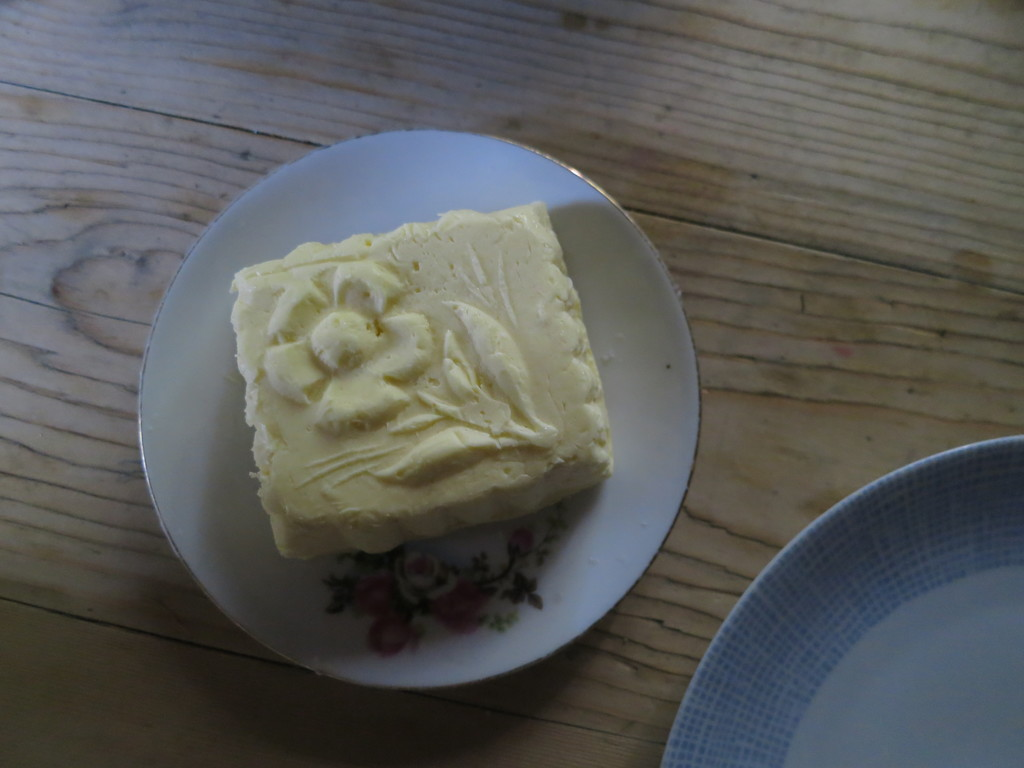plate: (661, 451, 1023, 764)
